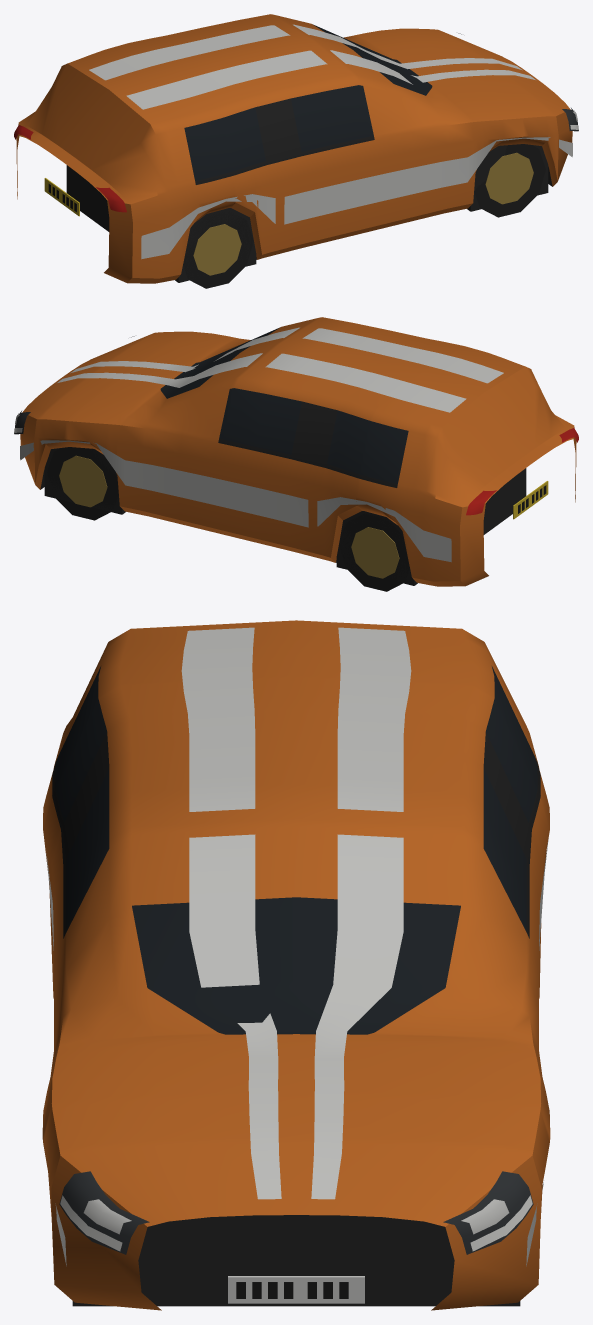
Rendered from SM_Prop_parked_car_115_LOD1.glb.
3 views of the same model, one above another, from view 1: azimuth 30°, elevation 25°; view 2: azimuth 150°, elevation 25°; view 3: azimuth 270°, elevation 25° (orthographic). The views are drawn at different scales.
Parts seen in each view (by area): view 1: SM_Prop_parked_car_115_LOD1; view 2: SM_Prop_parked_car_115_LOD1; view 3: SM_Prop_parked_car_115_LOD1.
Boxes of the visible parts, x1,y1,x2,y2 form: SM_Prop_parked_car_115_LOD1: (14, 14, 578, 288); SM_Prop_parked_car_115_LOD1: (14, 317, 578, 591); SM_Prop_parked_car_115_LOD1: (42, 620, 550, 1310).
Bounding box in the file's own units: 4.15 × 1.44 × 1.93.
